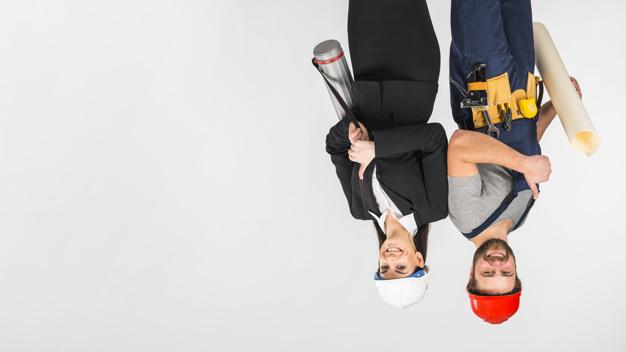thumbsdown: (529, 155, 552, 200), (347, 140, 369, 181)
